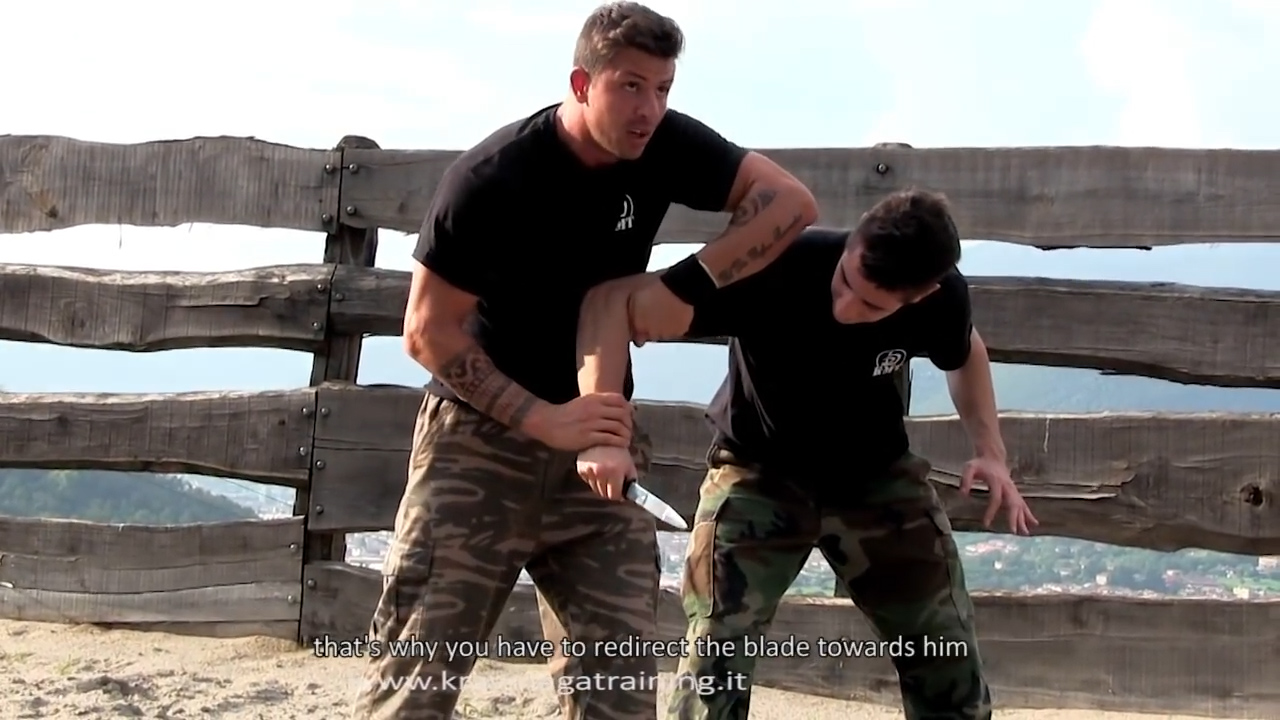knife: (574, 454, 696, 535)
